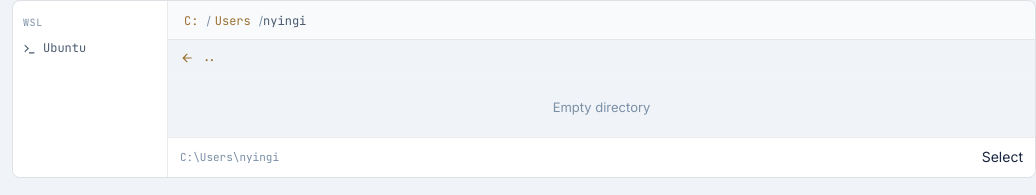
Scenario: FilePicker › navigates into the WSL distro path when clicked
Click the button "Ubuntu" at (90, 48), box 13,34 -> 167,62
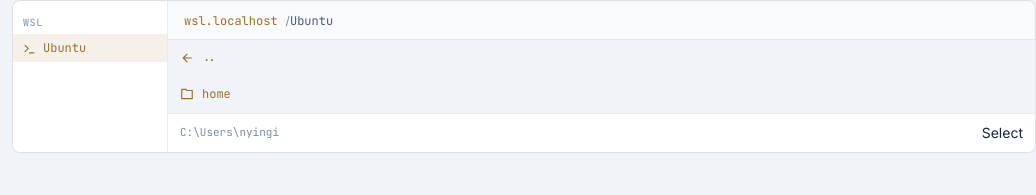
expect the text "home" is shown: met, box 202,86 -> 231,102
